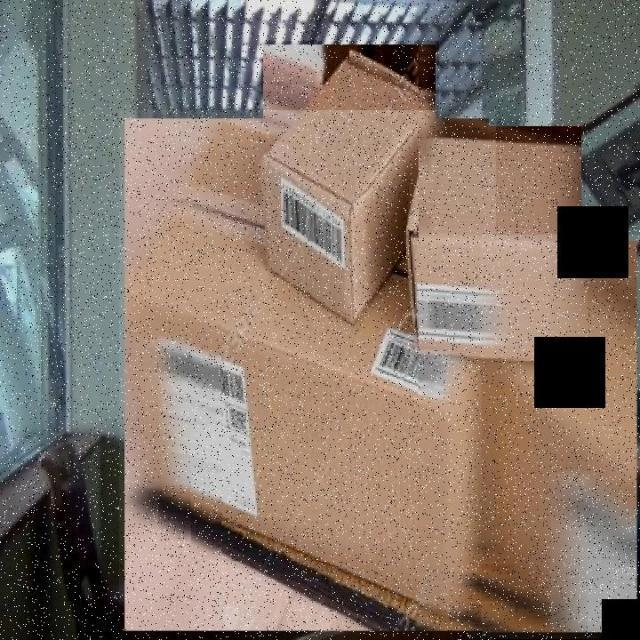box: (119, 110, 496, 640), (481, 235, 640, 640), (261, 41, 439, 332), (403, 122, 586, 372)
